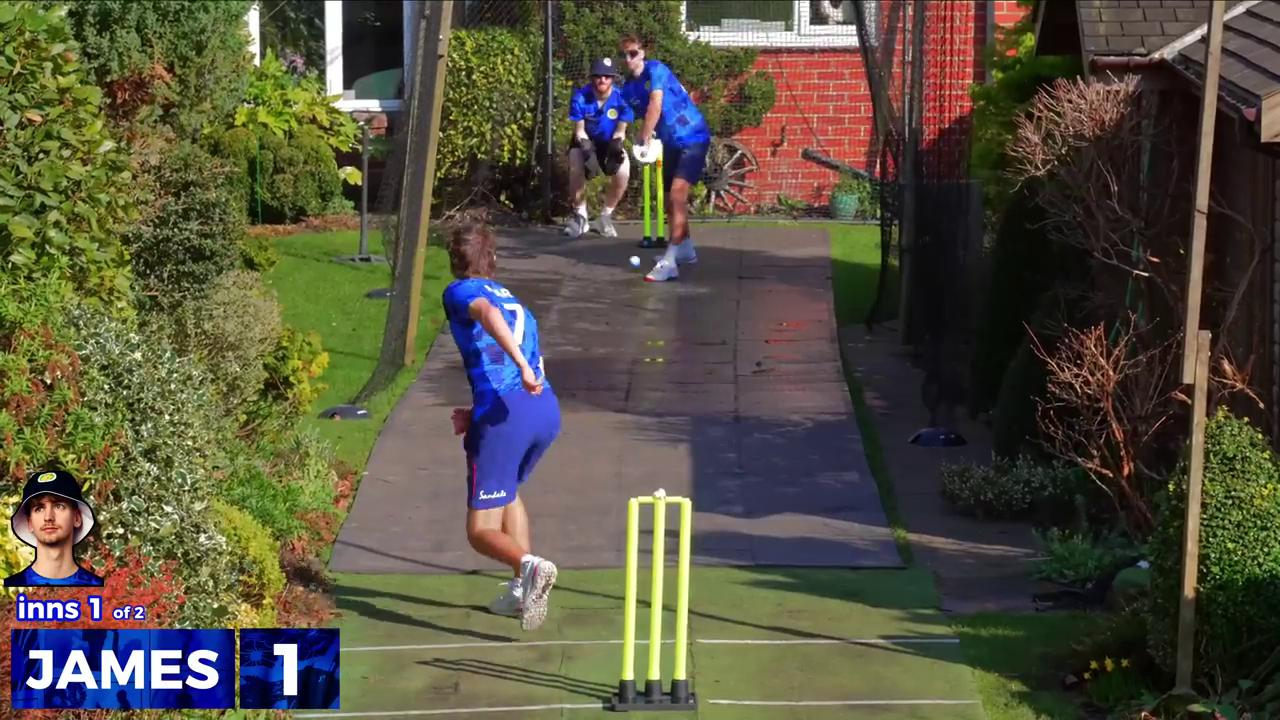ball: (623, 249, 646, 271)
